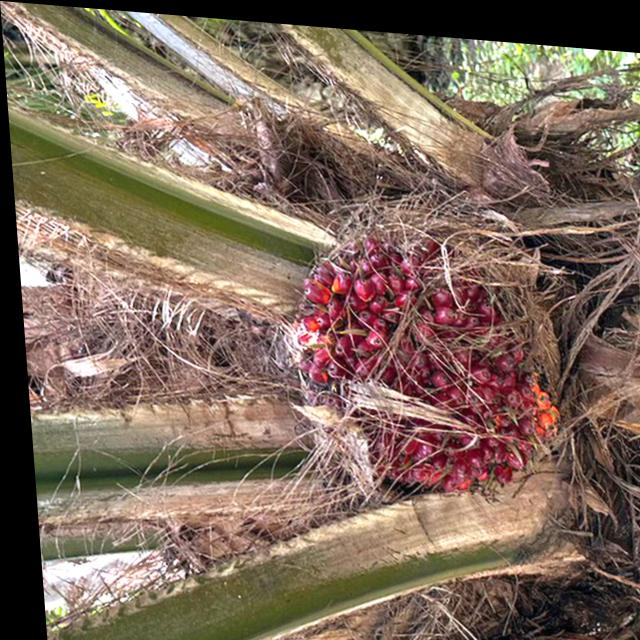ripe: (262, 195, 553, 509)
